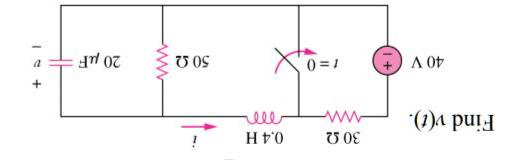inductor: (239, 103, 291, 129)
